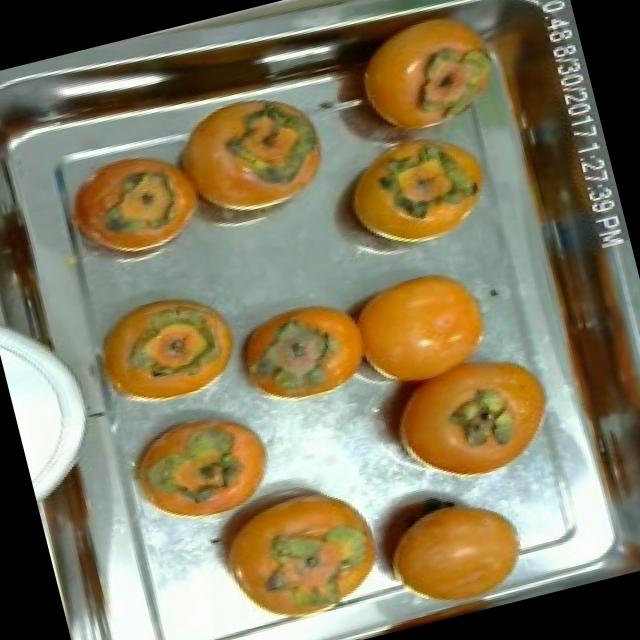Fruit: (184, 454, 404, 640), (362, 330, 579, 513), (143, 78, 355, 256), (315, 114, 516, 276), (319, 245, 512, 413), (67, 266, 260, 432), (104, 388, 295, 548), (332, 0, 524, 155), (354, 469, 544, 622), (38, 125, 216, 286), (206, 277, 388, 428)
